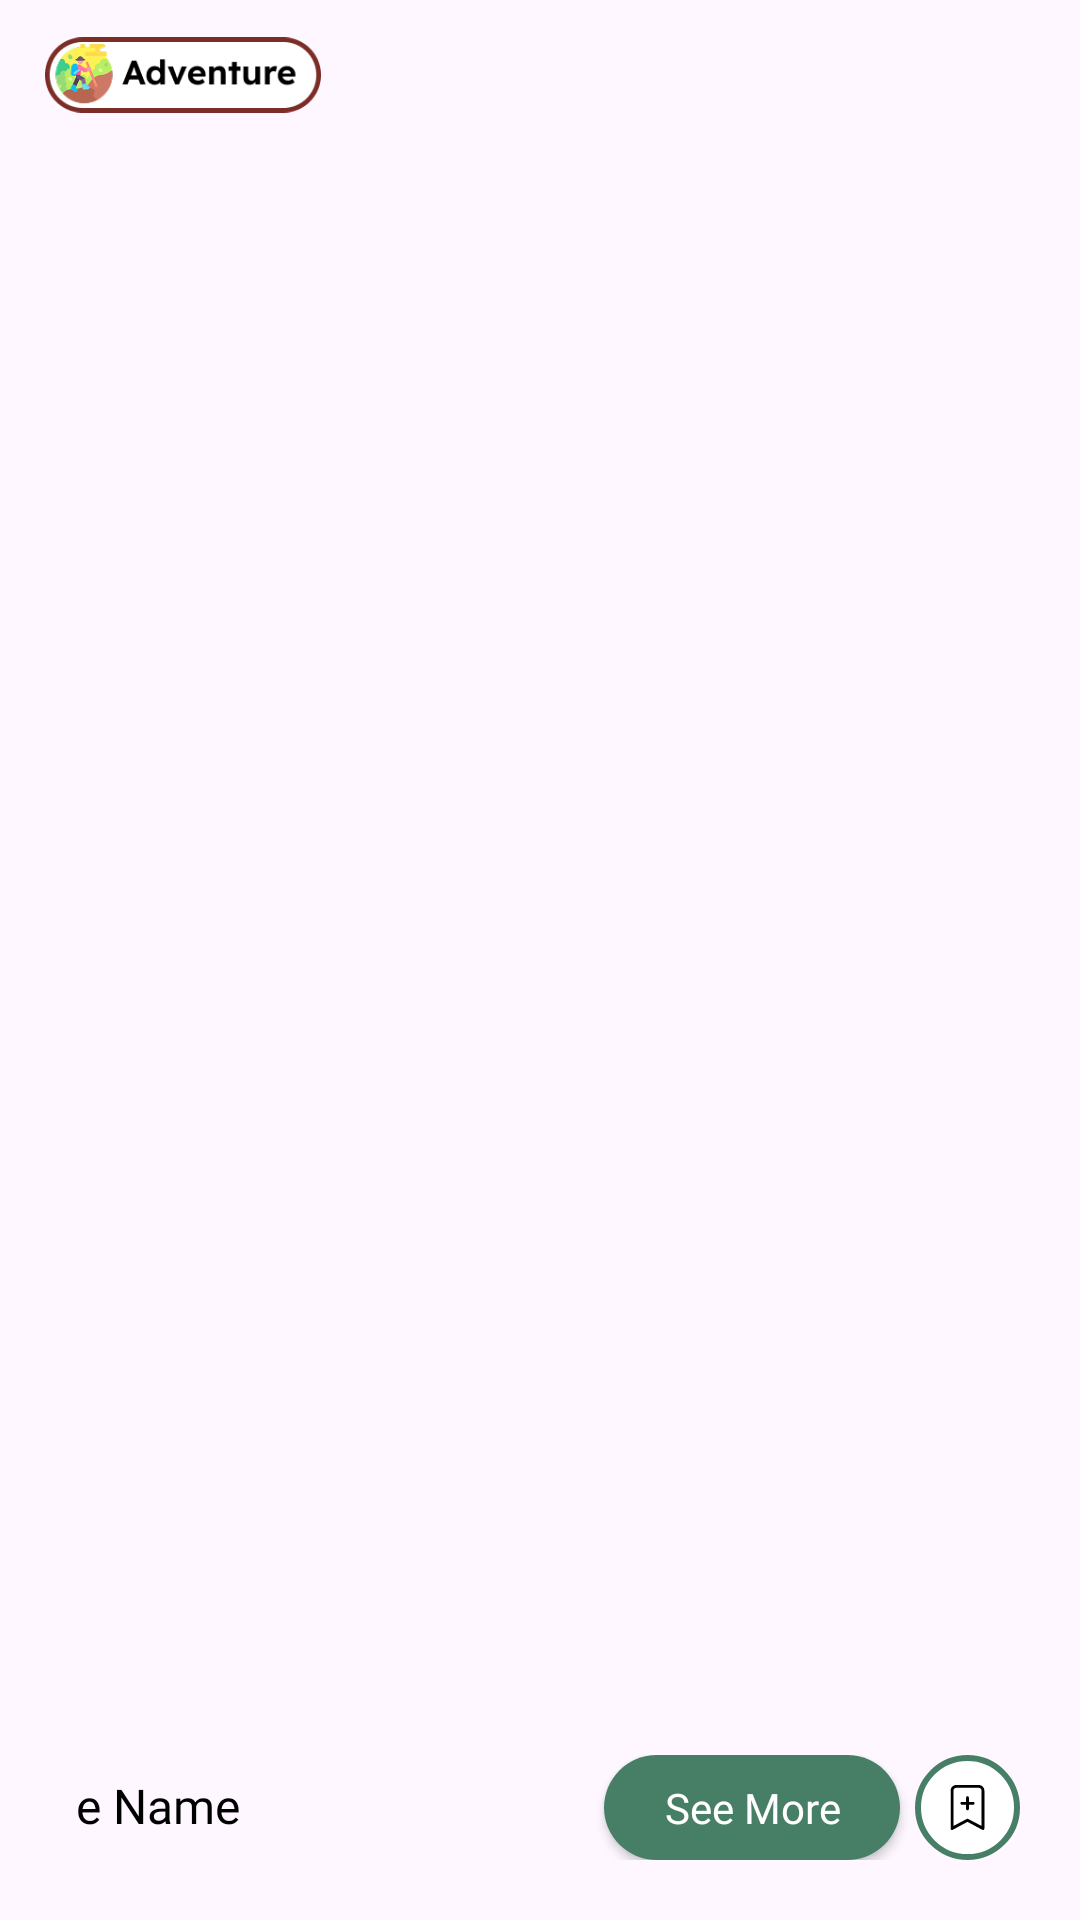

Icon click points for this 1080*1920 phone screenshot, format (x=x, y=y):
bookmarkplus: (x=967, y=1807)
